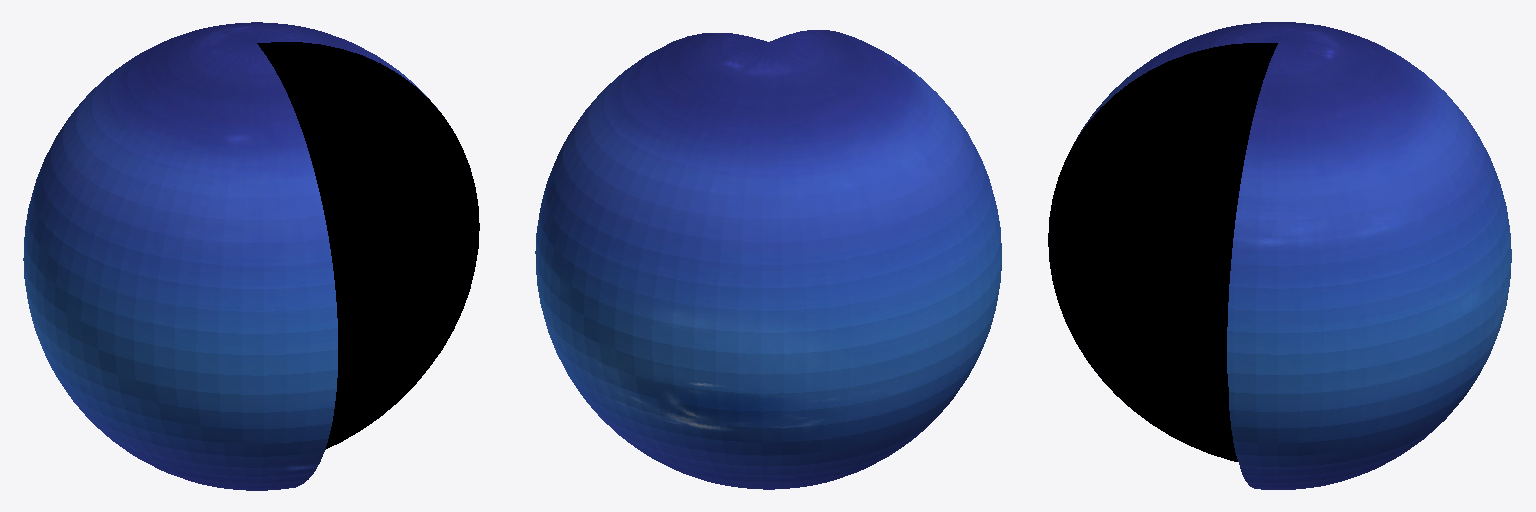
3 renders of one model, left to right at view 1: azimuth 30°, elevation 25°; view 2: azimuth 150°, elevation 25°; view 3: azimuth 270°, elevation 25°, orthographic.
Visible parts, largest first — view 1: Sphere; view 2: Sphere; view 3: Sphere.
Part boxes in pixels (left/top/right/bottom): Sphere: left=23, top=22, right=479, bottom=490; Sphere: left=535, top=30, right=1001, bottom=489; Sphere: left=1048, top=22, right=1511, bottom=489.
Size of the model in its own units: 49.05 by 49.48 by 48.71.
Materials: 4 (1 with a texture image).